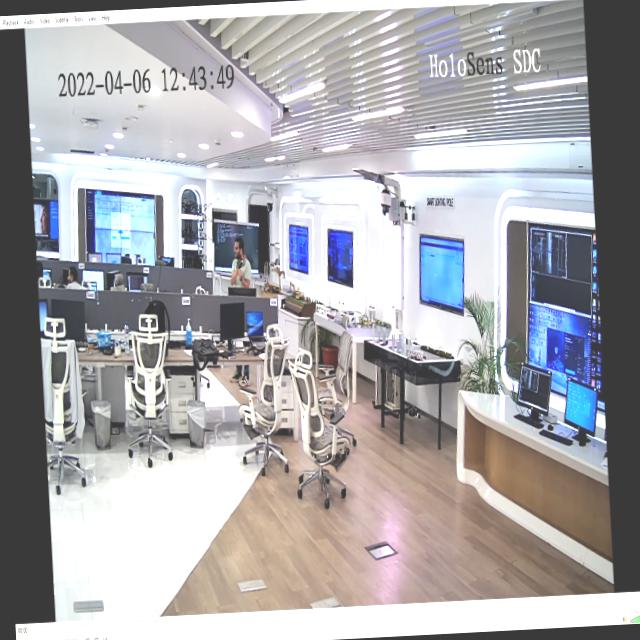long weapon: (235, 256, 244, 280)
